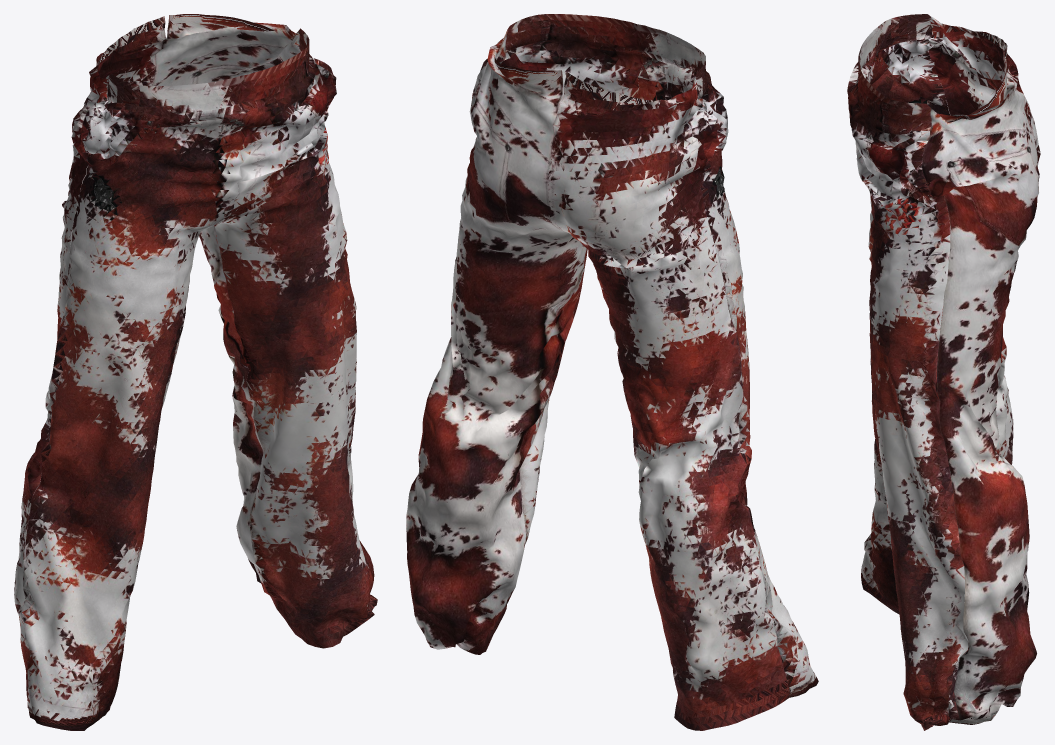
Rendered from jeans_M.glb.
The picture shows the model from 3 angles, left to right: view 1: azimuth 30°, elevation 25°; view 2: azimuth 150°, elevation 25°; view 3: azimuth 270°, elevation 25°; orthographic projection. The views are drawn at different scales.
Visible parts, largest first — view 1: Jeans; view 2: Jeans; view 3: Jeans.
Part boxes in pixels (box(x1,y1,x2,y2)): Jeans: box(14, 14, 377, 730); Jeans: box(406, 14, 818, 730); Jeans: box(847, 14, 1040, 730).
Bounding box in the file's own units: 0.5666 × 0.9404 × 0.2645.
2 materials, 2 textured.
